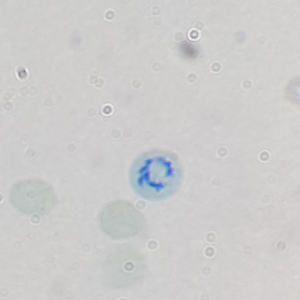aggregate reticulocyte: (127, 147, 187, 203)
erythrocyte: (97, 244, 154, 292), (97, 199, 150, 243)
punctate reticulocyte: (6, 177, 59, 218)
